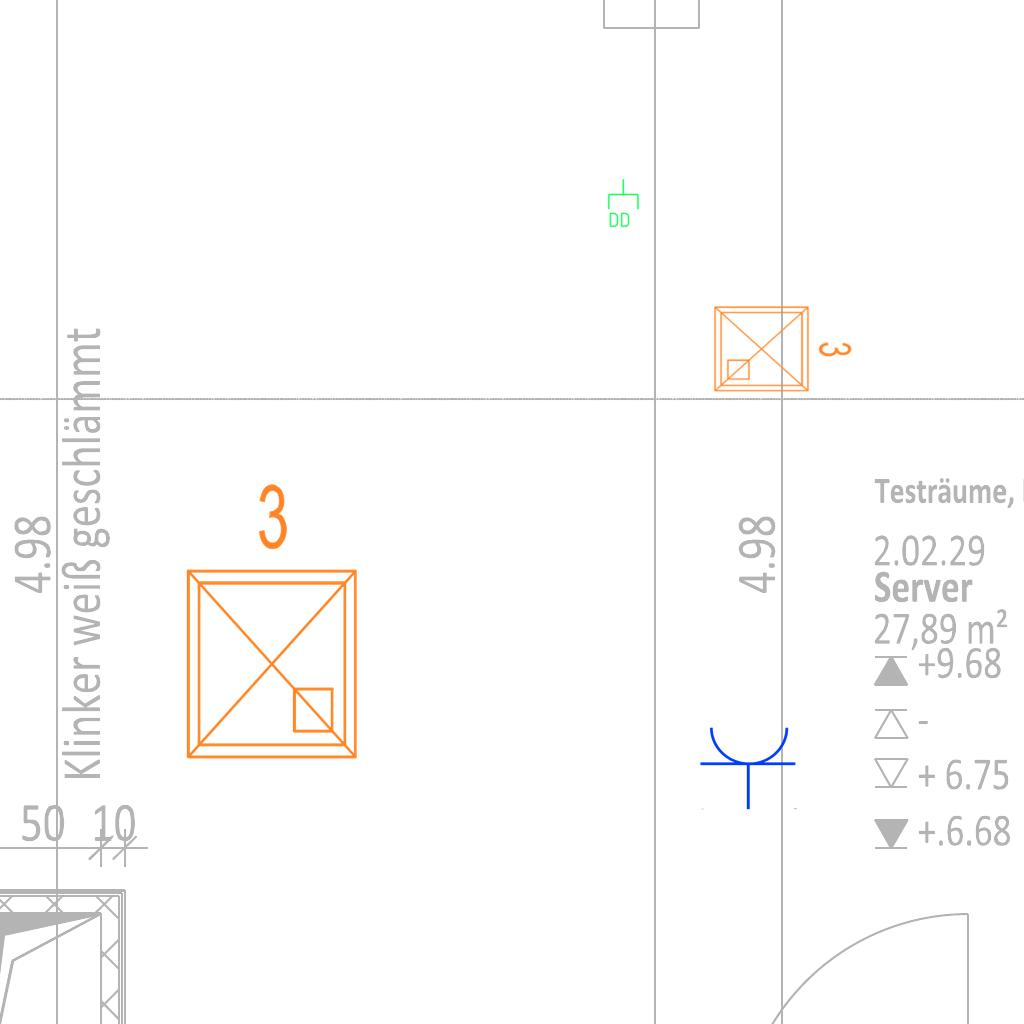Datenanschluss_zweifach: (606, 178, 640, 229)
Einbaudownlights_LED_Konferenzraeume: (164, 473, 372, 773), (707, 295, 857, 399)
Schukosteckdose_einfach: (699, 723, 799, 810)
